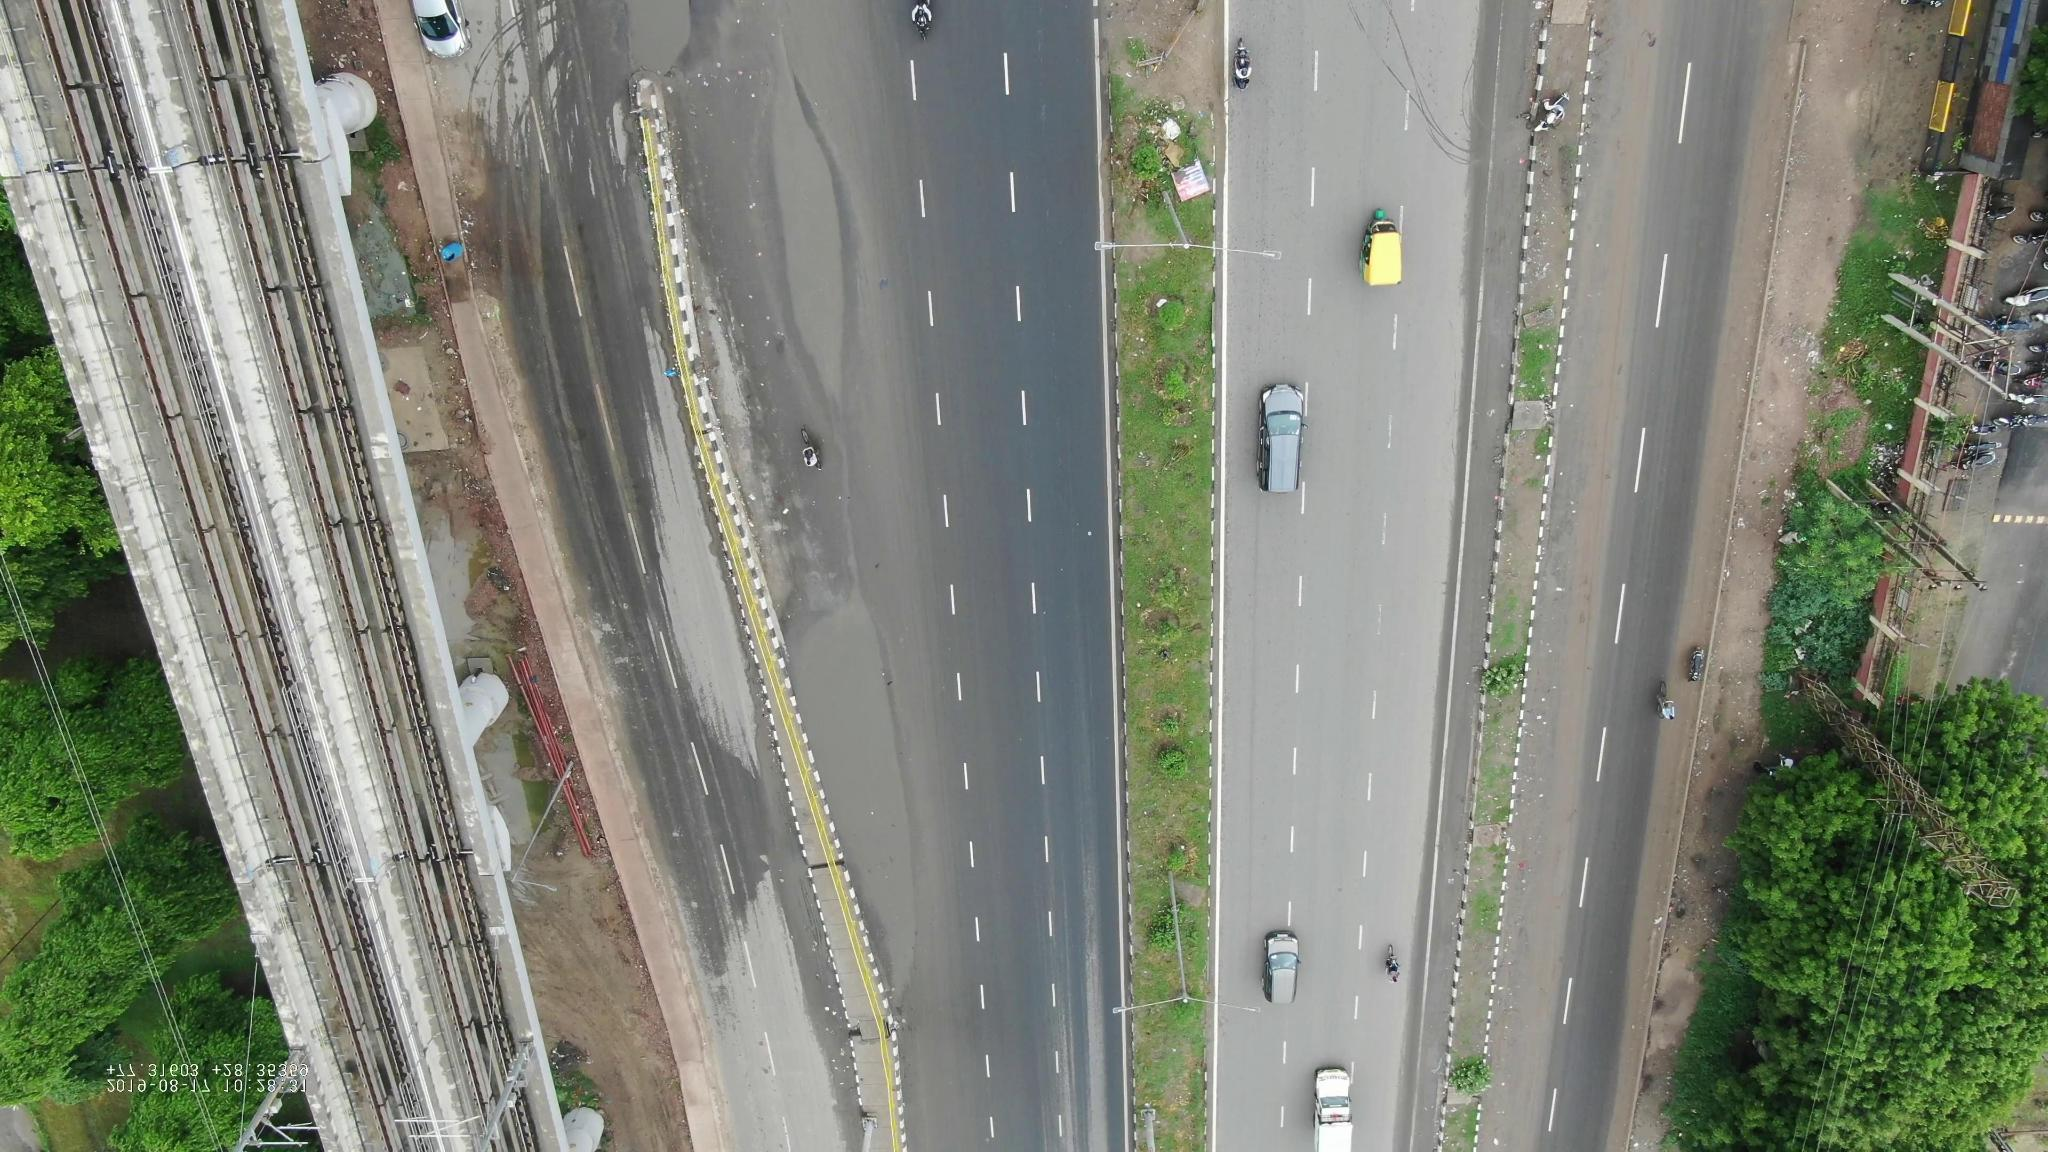Muddy_road: (1571, 25, 1665, 283), (1523, 568, 1604, 836), (1549, 309, 1634, 549), (1497, 852, 1578, 1087)
Potholes: (747, 84, 893, 443)
Waterlogging: (789, 558, 919, 982)
